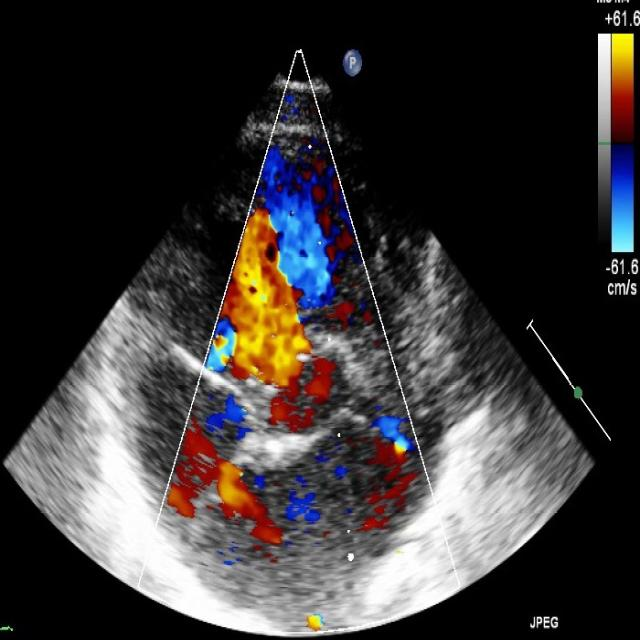VSDType2: (220, 211, 321, 398)
